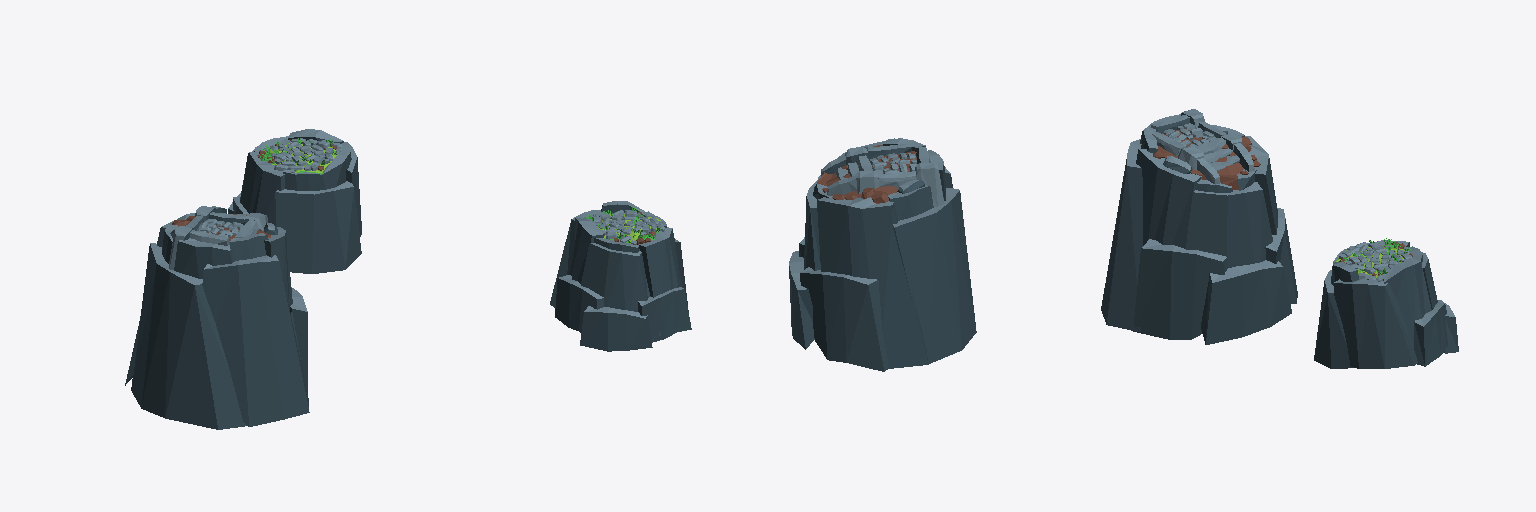
3 views of the same model, side by side, from view 1: azimuth 30°, elevation 25°; view 2: azimuth 150°, elevation 25°; view 3: azimuth 270°, elevation 25° (orthographic).
Parts seen in each view (by area): view 1: group[number redacted], group[number redacted], group[number redacted], group[number redacted], group[number redacted], group[number redacted], group[number redacted], group[number redacted], group[number redacted], group[number redacted], group[number redacted]; view 2: group[number redacted], group[number redacted], group[number redacted], group[number redacted], group[number redacted], group[number redacted], group[number redacted], group[number redacted], group[number redacted], group[number redacted], group[number redacted], group[number redacted] (+2 smaller); view 3: group[number redacted], group[number redacted], group[number redacted], group[number redacted], group[number redacted], group[number redacted], group[number redacted], group[number redacted], group[number redacted], group[number redacted], group[number redacted].
Part boxes in pixels (x1,y1,x2,y2): group[number redacted]: (131,243,246,429); group[number redacted]: (202,255,309,426); group[number redacted]: (275,181,361,273); group[number redacted]: (240,152,284,225); group[number redacted]: (174,238,233,278); group[number redacted]: (290,287,307,393); group[number redacted]: (264,227,292,308); group[number redacted]: (230,233,268,261); group[number redacted]: (322,149,351,189); group[number redacted]: (283,170,325,190); group[number redacted]: (341,142,361,236); group[number redacted]: (817,197,928,368); group[number redacted]: (892,188,976,363); group[number redacted]: (800,267,888,371); group[number redacted]: (581,243,655,338); group[number redacted]: (580,306,652,351); group[number redacted]: (639,227,682,336); group[number redacted]: (638,287,691,342); group[number redacted]: (555,275,603,332); group[number redacted]: (789,251,814,349); group[number redacted]: (804,181,820,270); group[number redacted]: (570,218,604,283); group[number redacted]: (888,186,933,220); group[number redacted]: (1133,239,1227,339); group[number redacted]: (1201,260,1291,344); group[number redacted]: (1334,279,1417,368); group[number redacted]: (1186,182,1272,267); group[number redacted]: (1101,139,1142,332); group[number redacted]: (1136,149,1201,248); group[number redacted]: (1383,258,1431,347); group[number redacted]: (1314,270,1353,368); group[number redacted]: (1414,302,1447,366); group[number redacted]: (1265,208,1297,303); group[number redacted]: (1245,136,1277,234).
Bounding box in the file's own units: 4.72 × 2.54 × 4.74.